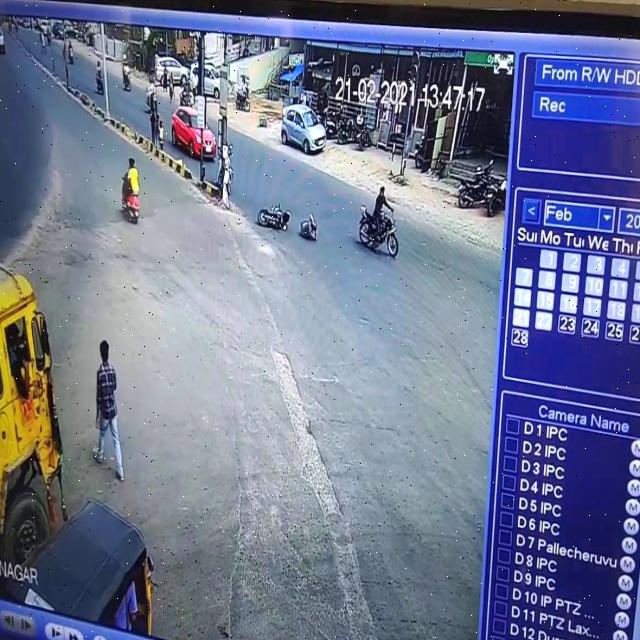accident: (251, 192, 323, 257)
